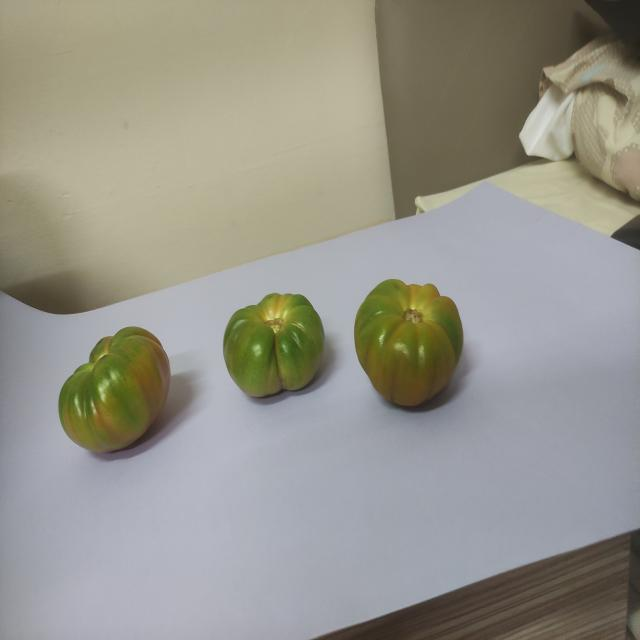yesil: (343, 258, 475, 415), (46, 316, 182, 466), (212, 284, 336, 407)
